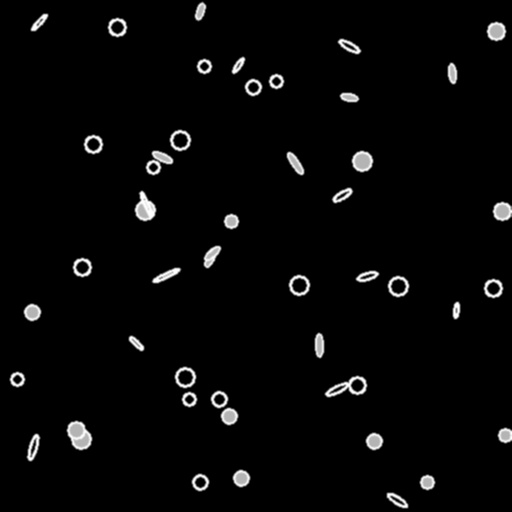pseudomonas: (285, 151, 305, 175), (152, 267, 180, 283), (337, 37, 361, 55), (385, 491, 409, 509), (324, 381, 350, 397), (138, 191, 154, 217), (26, 434, 40, 460), (203, 244, 221, 262), (30, 13, 48, 31), (332, 187, 352, 203), (127, 335, 145, 351), (203, 248, 217, 268), (152, 150, 172, 164), (356, 270, 378, 282), (231, 57, 245, 73), (340, 92, 358, 102), (195, 2, 205, 20), (448, 63, 456, 83), (316, 333, 322, 357), (453, 302, 459, 318)
synechocystis: (171, 131, 189, 149), (72, 430, 90, 448), (290, 276, 308, 294), (176, 368, 194, 386), (389, 277, 407, 295), (136, 201, 154, 219), (353, 152, 371, 170), (494, 203, 510, 219), (488, 23, 504, 39), (68, 422, 84, 438), (349, 377, 365, 393), (109, 19, 125, 35), (85, 136, 101, 152), (485, 280, 501, 296), (74, 259, 90, 275), (246, 80, 260, 94), (234, 471, 248, 485), (25, 305, 39, 319), (212, 392, 226, 406), (222, 409, 236, 423), (193, 475, 207, 489), (367, 434, 381, 448), (198, 60, 210, 72), (183, 393, 195, 405), (225, 215, 237, 227), (270, 75, 282, 87), (11, 373, 23, 385), (421, 476, 433, 488), (147, 161, 159, 173), (499, 429, 511, 441)
